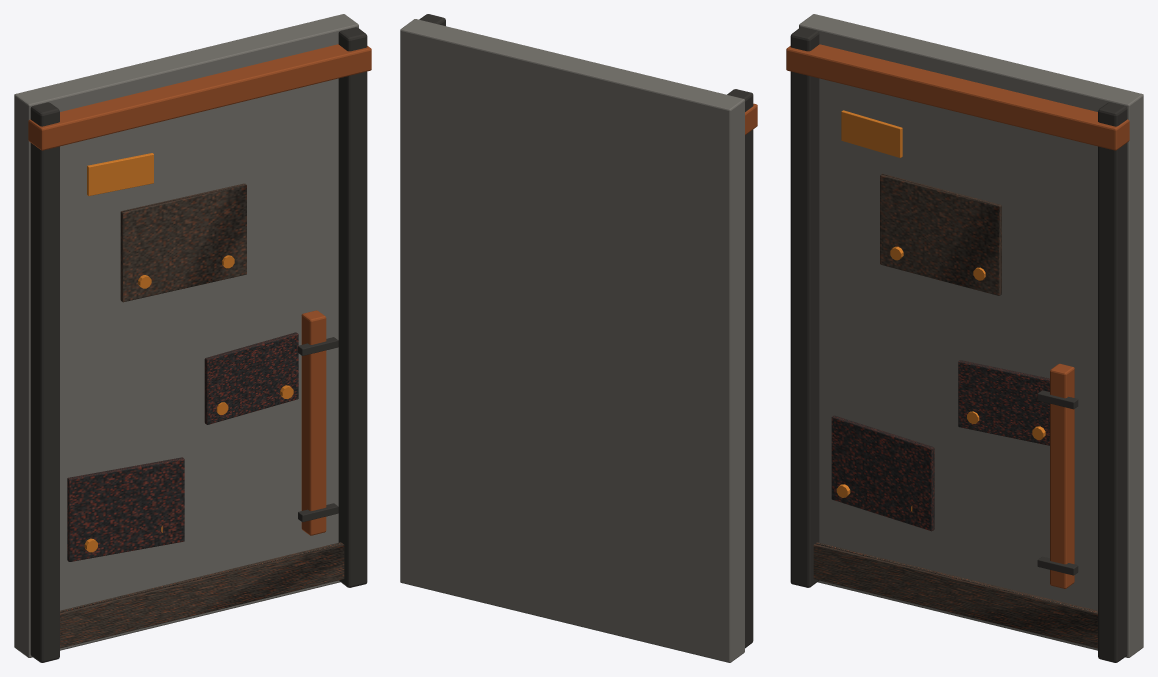
Rendered from rugged_basement_wall_a.glb.
The picture shows the model from 3 angles, left to right: view 1: azimuth 30°, elevation 25°; view 2: azimuth 150°, elevation 25°; view 3: azimuth 330°, elevation 25°; orthographic projection.
Visible parts, largest first — view 1: Broken concrete backing, Left uneven upright, Right uneven upright, Welded repair plate.002, Salvaged lintel, Damp floor skirt, Welded repair plate, Welded repair plate.001, Short warm-water pipe, Loose wall label; view 2: Broken concrete backing, Left uneven upright; view 3: Broken concrete backing, Right uneven upright, Left uneven upright, Salvaged lintel, Welded repair plate.002, Damp floor skirt, Welded repair plate, Welded repair plate.001, Short warm-water pipe, Loose wall label.
Part boxes in pixels (x1,y1,x2,y2): Broken concrete backing: (14, 14, 358, 657); Left uneven upright: (30, 102, 59, 662); Right uneven upright: (338, 27, 367, 587); Welded repair plate.002: (120, 183, 246, 302); Salvaged lintel: (28, 44, 371, 150); Damp floor skirt: (60, 542, 344, 648); Welded repair plate: (67, 457, 184, 561); Welded repair plate.001: (204, 332, 298, 424); Short warm-water pipe: (301, 310, 326, 535); Loose wall label: (87, 153, 153, 195); Broken concrete backing: (400, 19, 744, 662); Left uneven upright: (727, 89, 753, 648); Broken concrete backing: (799, 14, 1143, 657); Right uneven upright: (1098, 102, 1127, 662); Left uneven upright: (790, 27, 819, 587); Salvaged lintel: (786, 44, 1129, 150); Welded repair plate.002: (880, 173, 1001, 295); Damp floor skirt: (813, 542, 1097, 648); Welded repair plate: (831, 415, 934, 531); Welded repair plate.001: (958, 360, 1049, 445); Short warm-water pipe: (1050, 363, 1074, 588); Loose wall label: (841, 110, 902, 157).
Bounding box in the file's own units: 2 × 3.2 × 0.34.
Materials: 6 (2 with a texture image).
